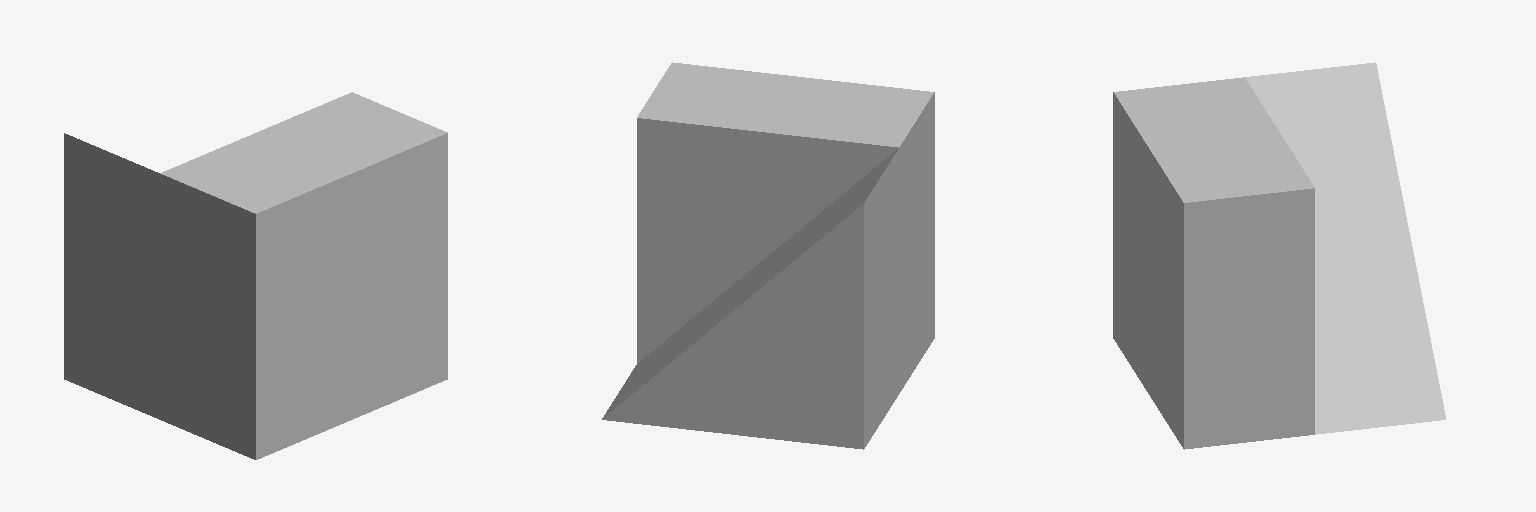
Rendered from TestObject1.obj.
3 views of the same model, side by side, from view 1: azimuth 30°, elevation 25°; view 2: azimuth 150°, elevation 25°; view 3: azimuth 270°, elevation 25° (orthographic).
Visible parts, largest first — view 1: TestObject1; view 2: TestObject1; view 3: TestObject1.
Boxes of the visible parts, x1,y1,x2,y2 form: TestObject1: [64, 92, 447, 459]; TestObject1: [602, 62, 934, 449]; TestObject1: [1113, 62, 1445, 449].
Size of the model in its own units: 1.22 by 1 by 1.22.